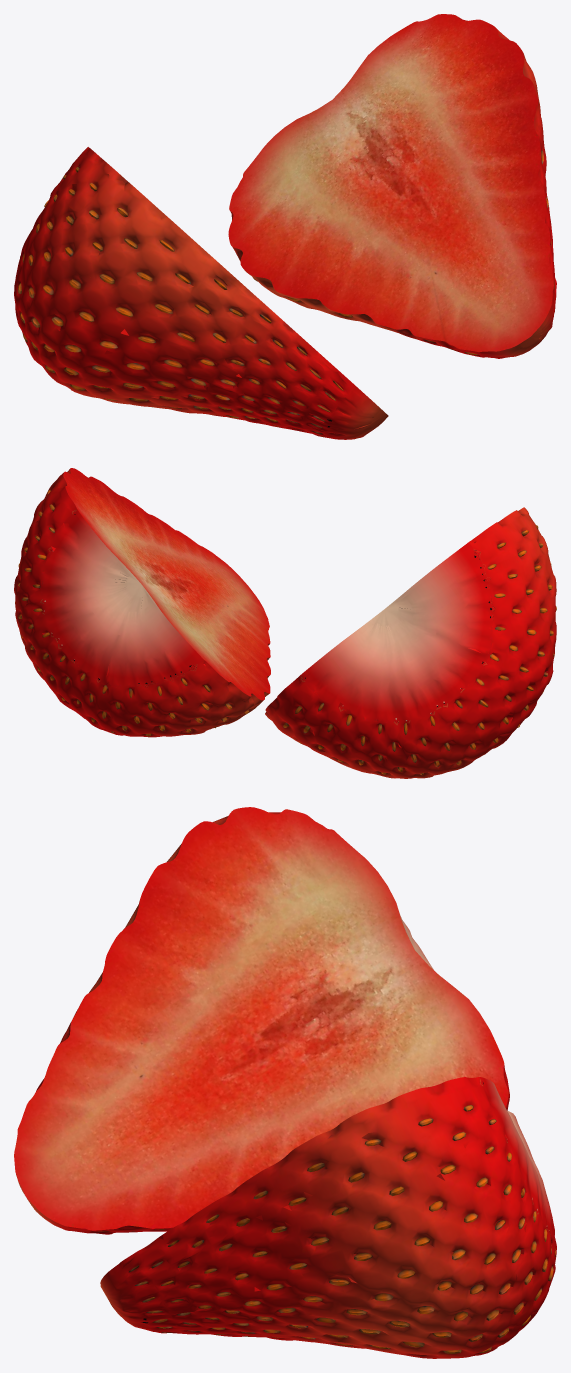
The model's file is morangoCortado2.fbx.
3 renders of one model, top to bottom at view 1: azimuth 30°, elevation 25°; view 2: azimuth 150°, elevation 25°; view 3: azimuth 270°, elevation 25°, orthographic. The views are drawn at different scales.
Parts seen in each view (by area): view 1: morango, morango.001; view 2: morango, morango.001; view 3: morango.001, morango.
Part boxes in pixels (left/top/right/bottom): morango: left=228, top=14, right=556, bottom=358; morango.001: left=14, top=147, right=388, bottom=439; morango: left=14, top=468, right=270, bottom=737; morango.001: left=265, top=507, right=556, bottom=778; morango.001: left=14, top=807, right=509, bottom=1234; morango: left=100, top=1077, right=556, bottom=1358.
Size of the model in its own units: 13.31 by 6.55 by 9.47.
